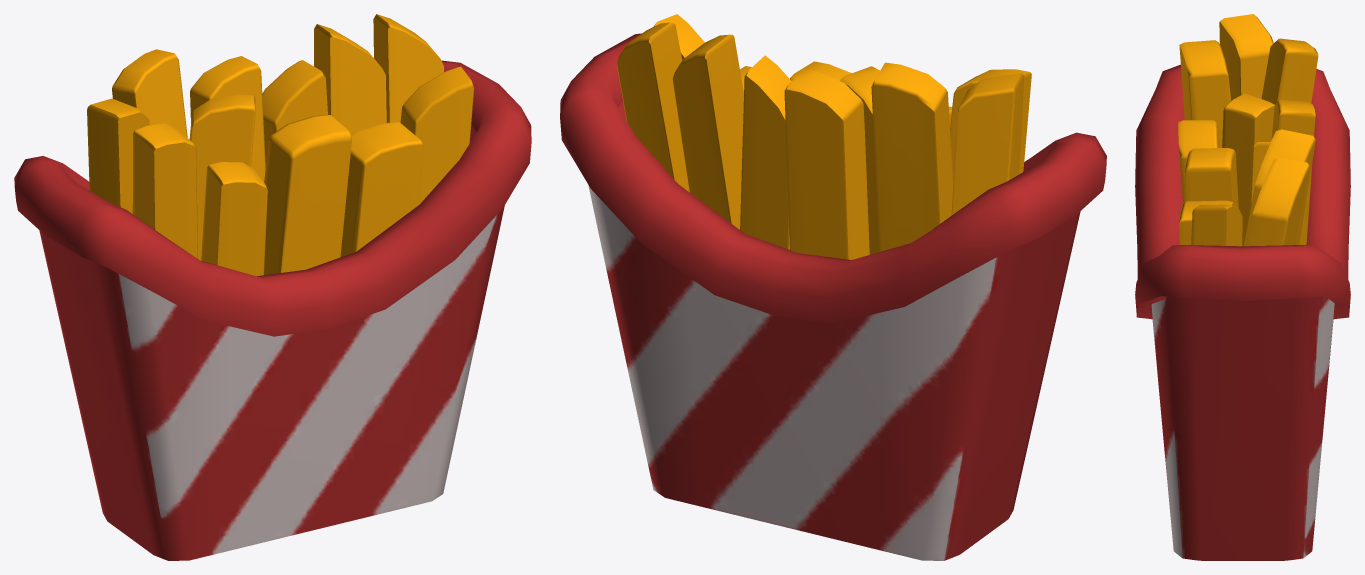
Rendered from 0-fries.fbx.
3 renders of one model, left to right at view 1: azimuth 30°, elevation 25°; view 2: azimuth 150°, elevation 25°; view 3: azimuth 270°, elevation 25°, orthographic. The views are drawn at different scales.
Visible parts, largest first — view 1: 0-fries; view 2: 0-fries; view 3: 0-fries.
Part boxes in pixels (x1,y1,x2,y2): 0-fries: (14, 14, 531, 560); 0-fries: (560, 14, 1106, 560); 0-fries: (1135, 14, 1350, 560).
Size of the model in its own units: 99.29 by 92.85 by 43.34.
